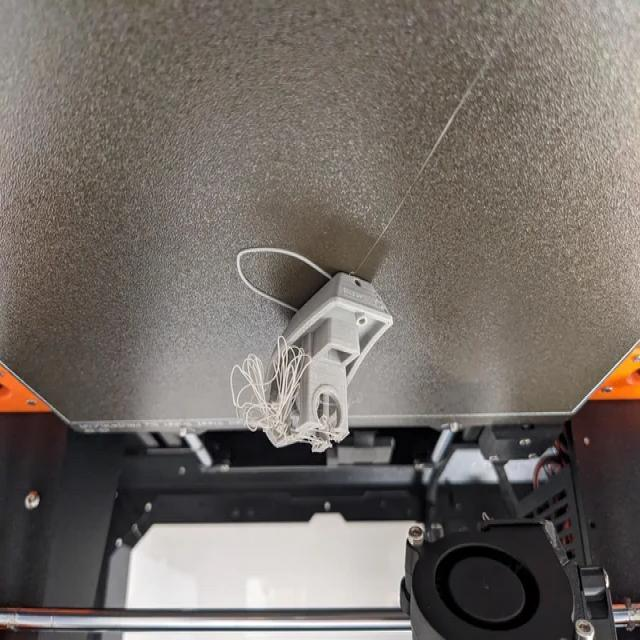Spaghetti: (230, 340, 303, 433)
